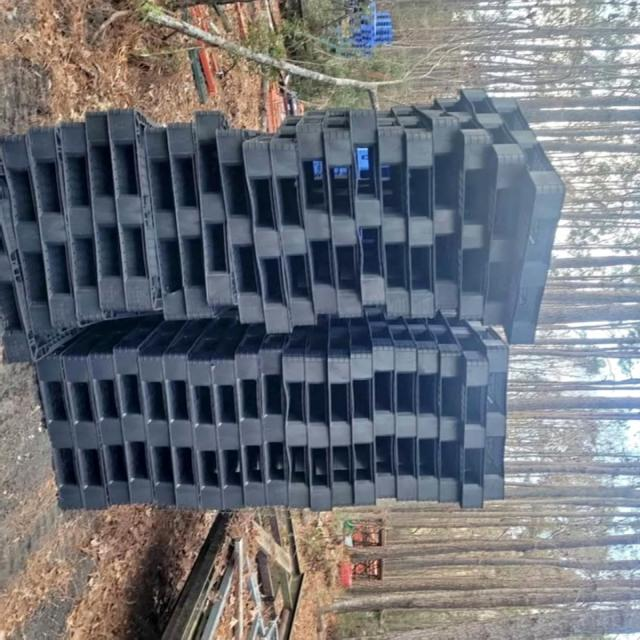non-igps: (451, 84, 541, 331), (484, 91, 570, 348), (204, 121, 283, 329), (426, 91, 494, 325), (260, 110, 332, 330), (50, 117, 120, 329), (102, 102, 170, 320), (158, 116, 228, 326), (19, 123, 88, 334), (235, 130, 304, 338), (0, 129, 66, 343), (408, 98, 472, 314), (131, 118, 197, 327), (56, 303, 122, 512), (290, 99, 352, 321), (182, 302, 245, 513), (317, 99, 376, 324), (108, 307, 172, 509), (386, 102, 444, 324), (187, 103, 248, 314), (83, 303, 145, 508), (29, 317, 93, 514), (77, 107, 136, 317), (341, 101, 399, 313), (159, 313, 219, 514), (133, 314, 193, 510), (456, 315, 517, 503), (369, 107, 420, 326), (441, 313, 495, 514), (395, 312, 449, 506), (420, 312, 471, 507), (377, 312, 428, 505), (0, 126, 40, 370), (206, 320, 256, 514), (361, 303, 405, 502), (232, 319, 275, 511), (255, 328, 298, 511), (324, 308, 361, 511), (299, 311, 336, 514), (344, 313, 382, 509), (344, 313, 381, 510), (278, 322, 315, 511)
